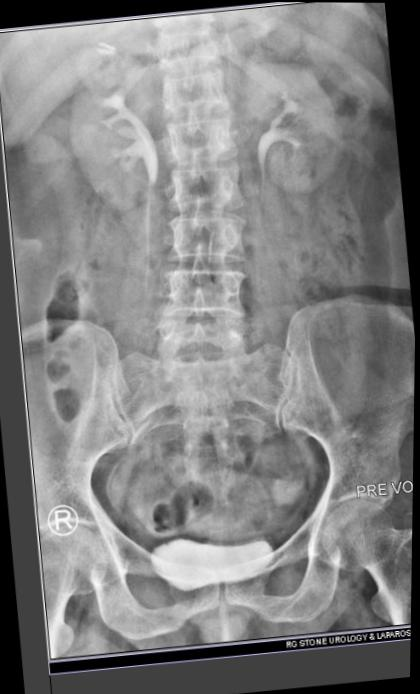bladder: (114, 547, 275, 641)
left kidney: (220, 22, 354, 197)
right kidney: (27, 24, 147, 212)
vertebrae: (143, 98, 226, 157)
